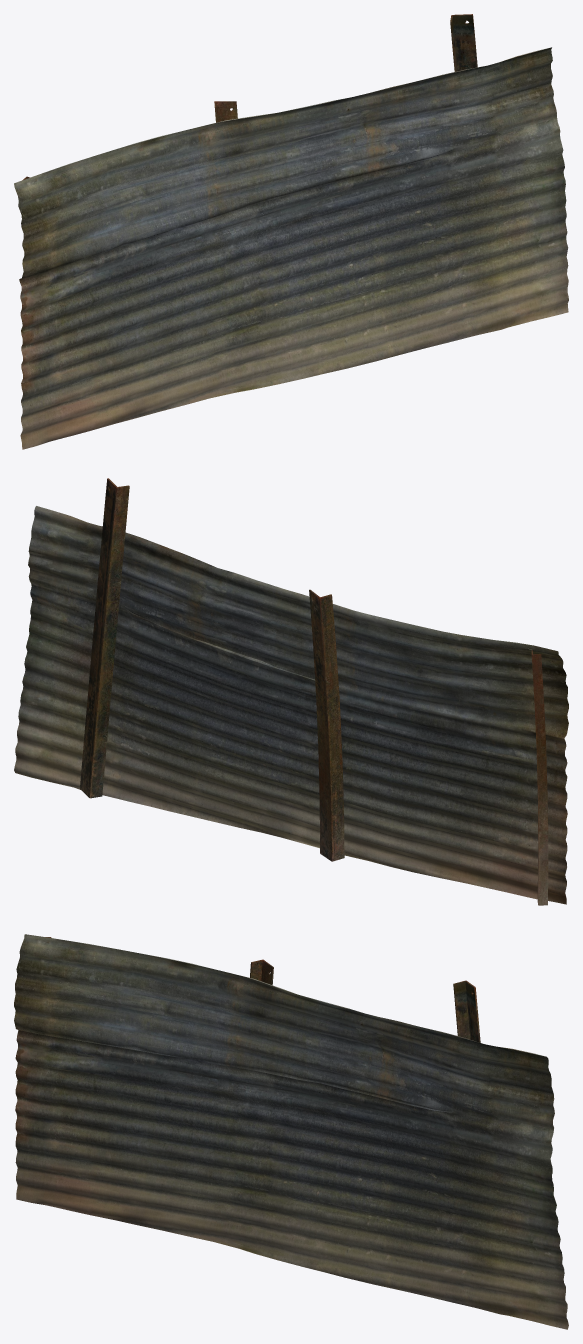
The model's file is military_trenches_wall_metal_corrugated.glb.
The picture shows the model from 3 angles, top to bottom: view 1: azimuth 30°, elevation 25°; view 2: azimuth 150°, elevation 25°; view 3: azimuth 330°, elevation 25°; orthographic projection.
Parts seen in each view (by area): view 1: ydxlbii_LOD0_TIER2_000; view 2: ydxlbii_LOD0_TIER2_000; view 3: ydxlbii_LOD0_TIER2_000.
Part boxes in pixels (x1,y1,x2,y2): ydxlbii_LOD0_TIER2_000: (14,14,568,449); ydxlbii_LOD0_TIER2_000: (14,478,568,905); ydxlbii_LOD0_TIER2_000: (14,934,568,1329).
Bounding box in the file's own units: 2.6 × 1.45 × 0.2484.
1 material, 1 textured.
